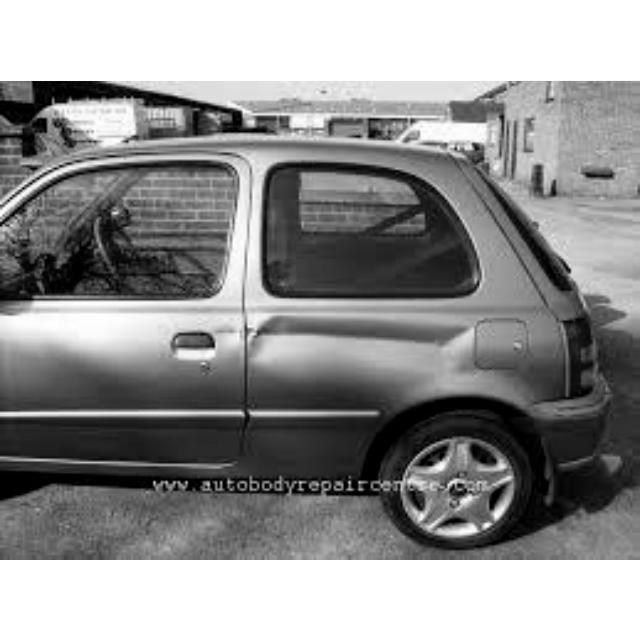doorouter-dent: (250, 305, 482, 455)
